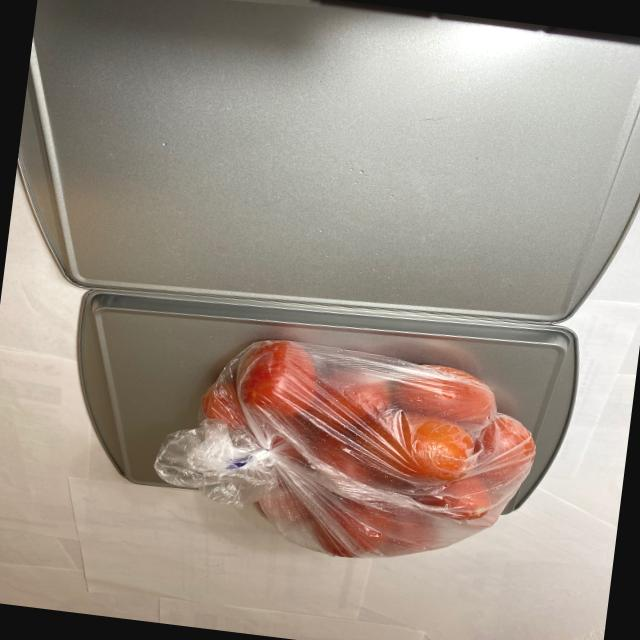tomato: (184, 338, 549, 581)
